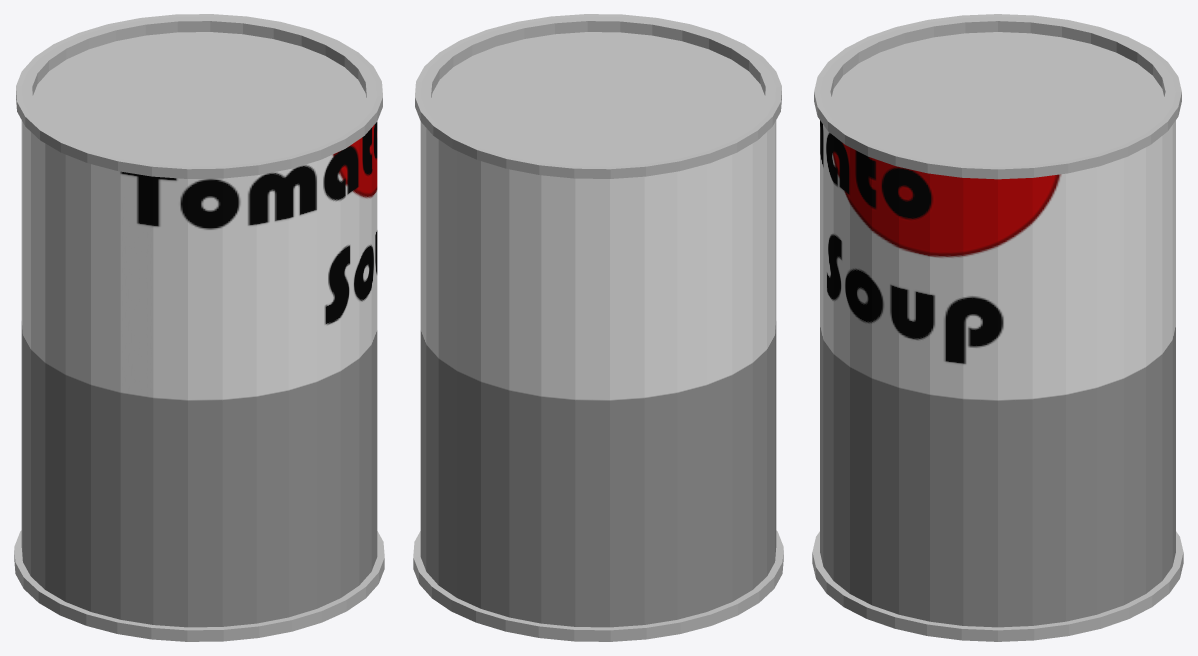
The model's file is tomatoCan_OBJ.obj.
3 views of the same model, side by side, from view 1: azimuth 30°, elevation 25°; view 2: azimuth 150°, elevation 25°; view 3: azimuth 270°, elevation 25° (orthographic).
Visible parts, largest first — view 1: Cylinder; view 2: Cylinder; view 3: Cylinder.
Boxes of the visible parts, x1,y1,x2,y2 form: Cylinder: (14,14,384,641); Cylinder: (413,14,783,641); Cylinder: (812,14,1183,641).
Size of the model in its own units: 0.4586 by 0.6433 by 0.4586.
